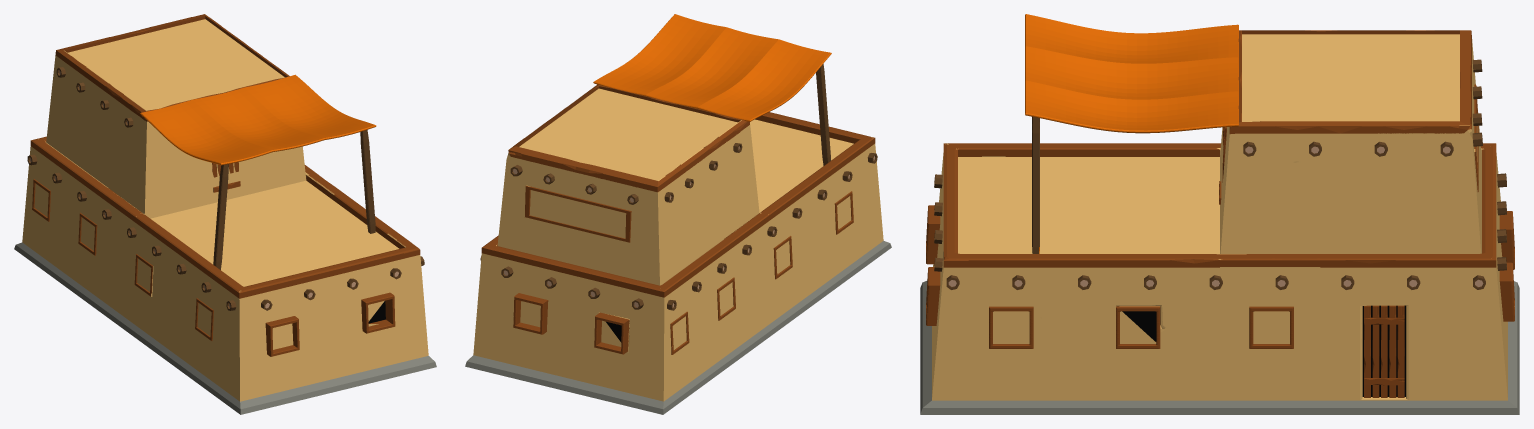
File: DesertHouseTent.fbx
3 renders of one model, left to right at view 1: azimuth 30°, elevation 25°; view 2: azimuth 150°, elevation 25°; view 3: azimuth 270°, elevation 25°, orthographic. The views are drawn at different scales.
Parts seen in each view (by area): view 1: Plane; view 2: Plane; view 3: Plane.
Boxes of the visible parts, left/top/right/bottom form: Plane: left=14, top=14, right=436, bottom=414; Plane: left=465, top=14, right=891, bottom=414; Plane: left=920, top=14, right=1519, bottom=414.
Size of the model in its own units: 208 by 221 by 416.
